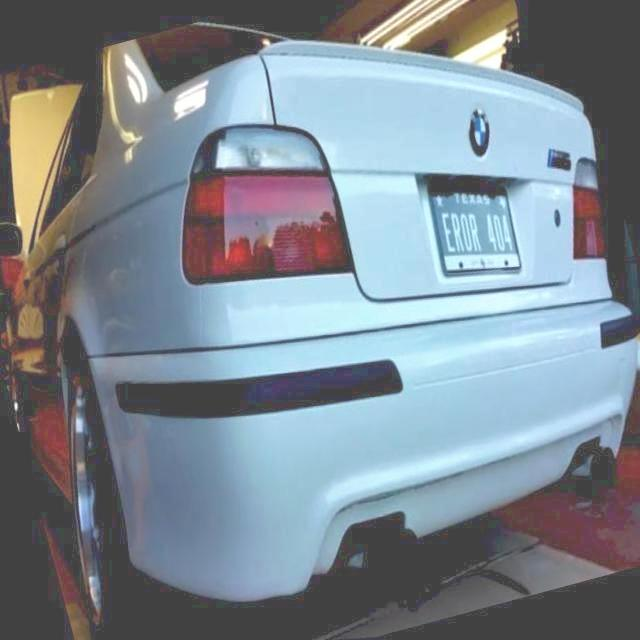license_plate: (418, 175, 533, 282)
